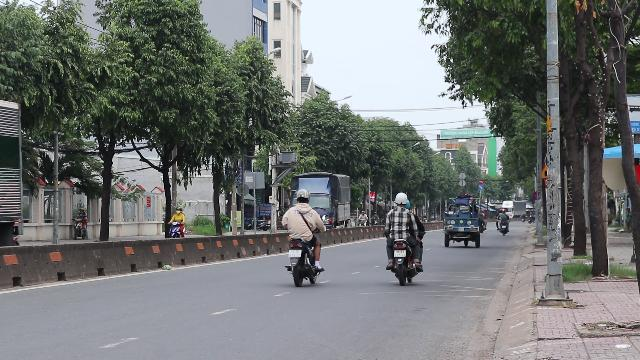helmet: (294, 188, 310, 204), (394, 192, 408, 208)
licenseplate: (288, 251, 300, 258), (394, 250, 406, 256)
motorcyclist: (281, 188, 325, 286), (382, 192, 424, 284)
